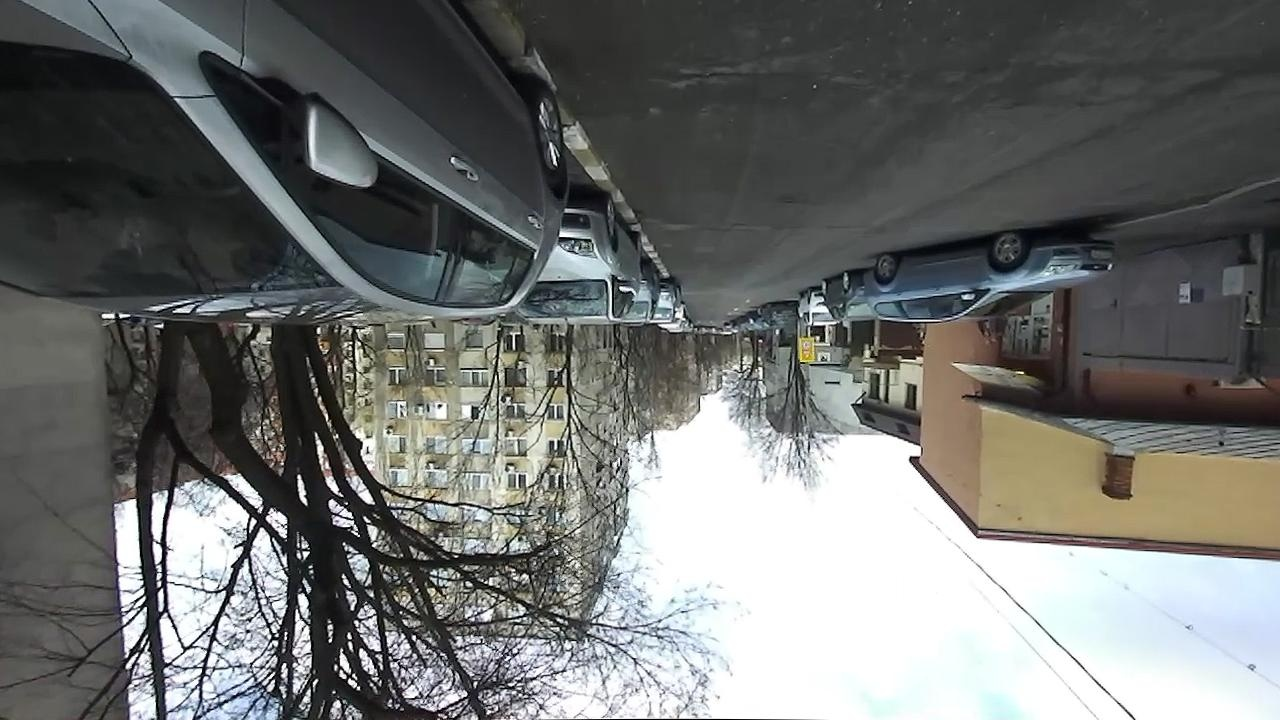pothole: (663, 54, 793, 91), (775, 193, 800, 210)
